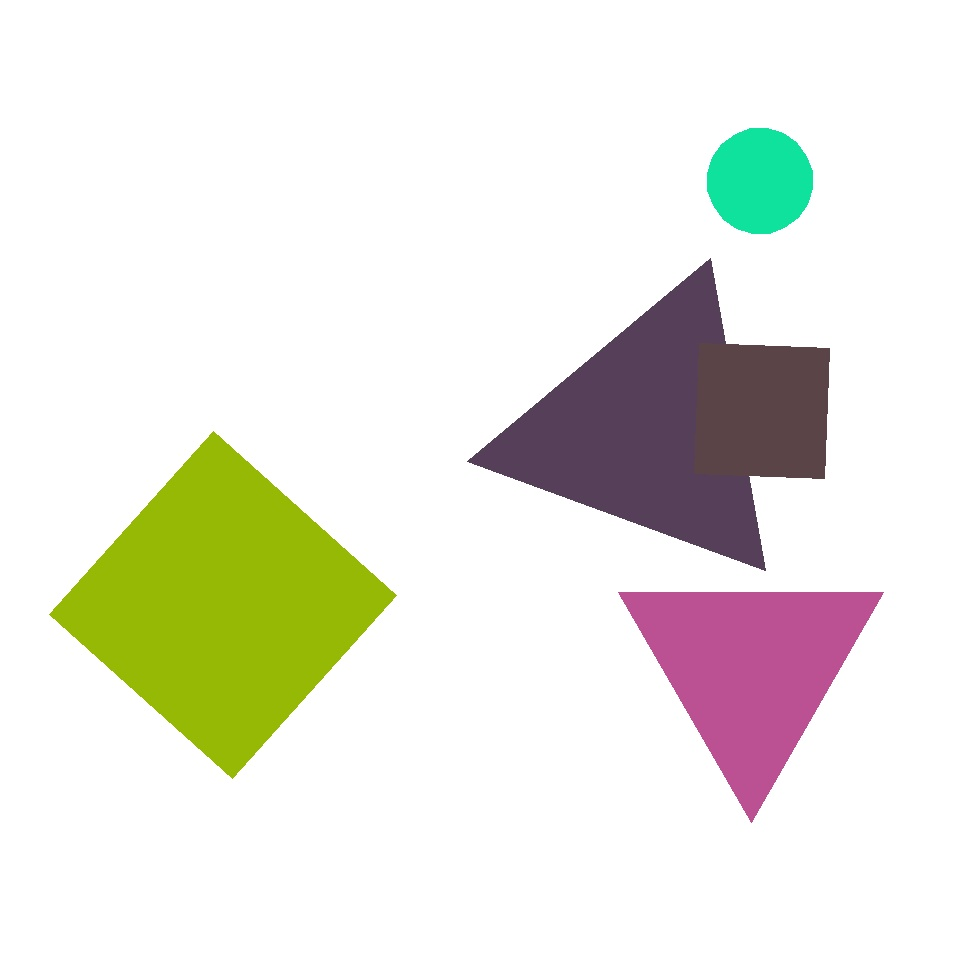circle: (499, 274, 797, 586), (60, 154, 319, 438), (518, 54, 786, 322), (618, 554, 884, 784), (692, 325, 828, 453)
square: (50, 432, 396, 779), (740, 212, 920, 390), (330, 104, 506, 282), (694, 344, 830, 478)
triangle: (110, 15, 318, 224), (708, 128, 812, 234)
